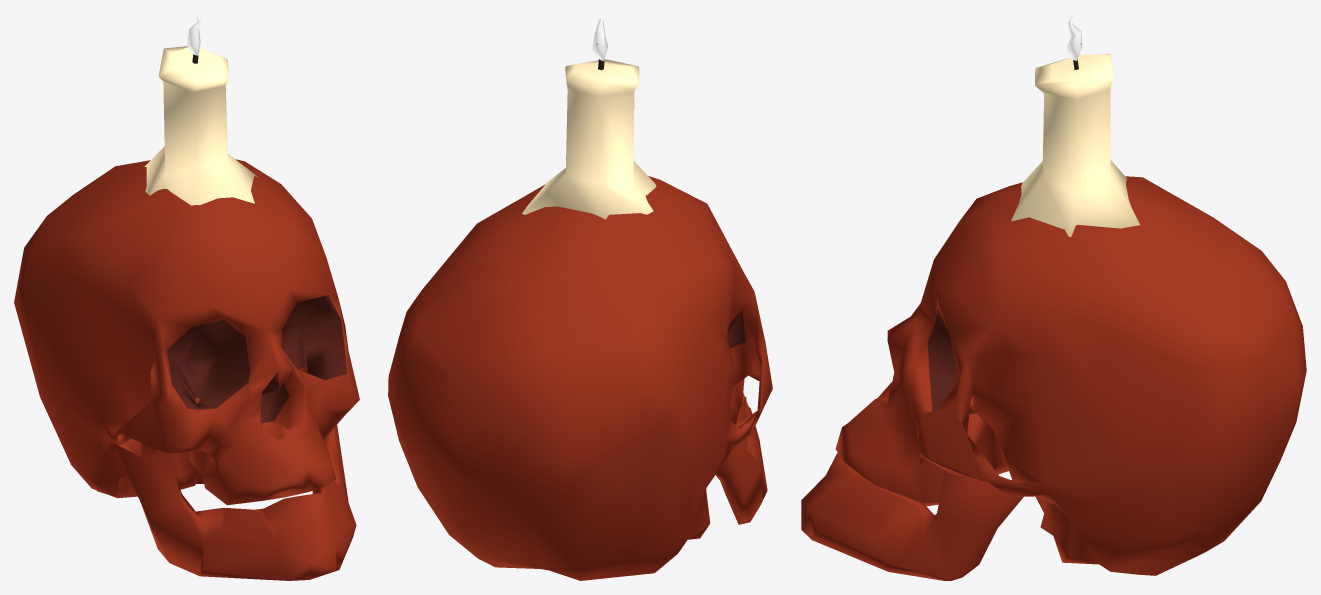
The model's file is CandleSkullShapeB.006.glb.
3 views of the same model, side by side, from view 1: azimuth 30°, elevation 25°; view 2: azimuth 150°, elevation 25°; view 3: azimuth 270°, elevation 25° (orthographic). The views are drawn at different scales.
Parts seen in each view (by area): view 1: CandleSkullShapeB.006; view 2: CandleSkullShapeB.006; view 3: CandleSkullShapeB.006.
Part boxes in pixels (x1,y1,x2,y2): CandleSkullShapeB.006: (14,14,359,580); CandleSkullShapeB.006: (388,14,772,580); CandleSkullShapeB.006: (801,15,1306,580).
Bounding box in the file's own units: 0.2005 × 0.3649 × 0.3132.
2 materials, 2 textured.
